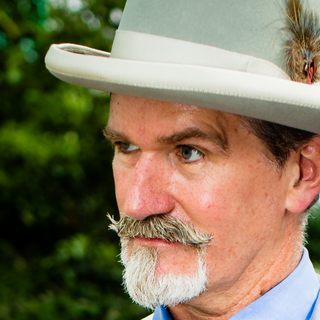eye: (168, 139, 213, 166), (113, 138, 146, 157)
